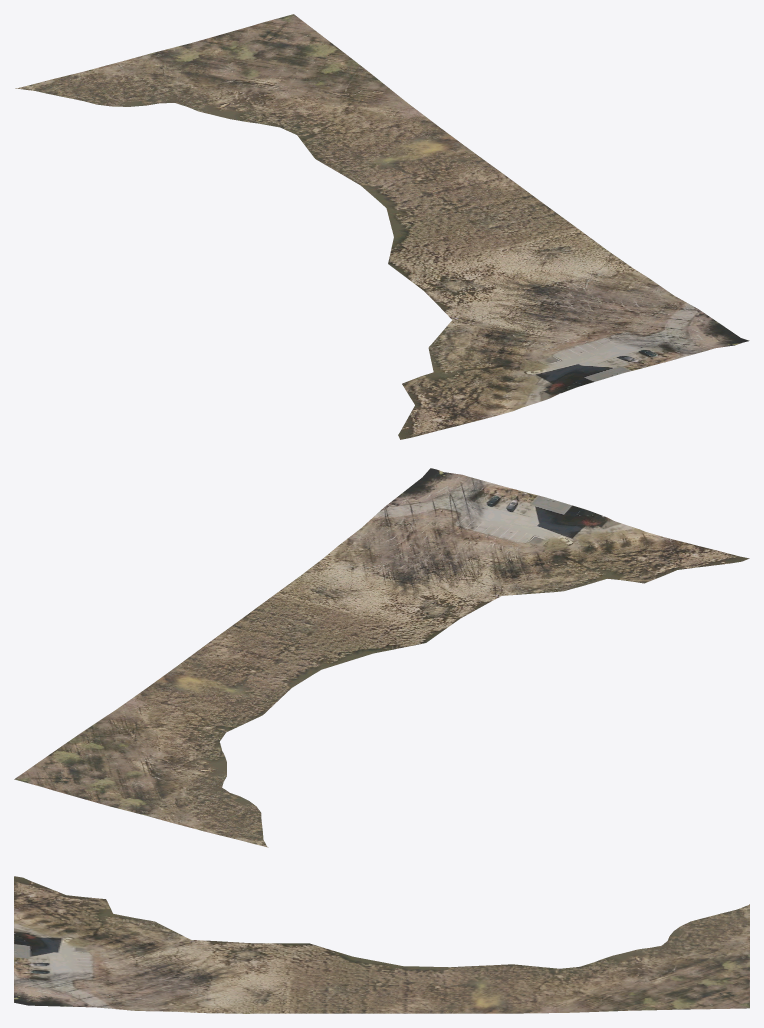
Rendered from CM_Terrain_24490254_6819589.fbx.
The picture shows the model from 3 angles, top to bottom: view 1: azimuth 30°, elevation 25°; view 2: azimuth 150°, elevation 25°; view 3: azimuth 270°, elevation 25°; orthographic projection. The views are drawn at different scales.
Visible parts, largest first — view 1: CM_Terrain_24490254_6819589_LOD0; view 2: CM_Terrain_24490254_6819589_LOD0; view 3: CM_Terrain_24490254_6819589_LOD0.
Part boxes in pixels (bbox=[...]): CM_Terrain_24490254_6819589_LOD0: bbox=[15, 14, 749, 439]; CM_Terrain_24490254_6819589_LOD0: bbox=[14, 468, 749, 847]; CM_Terrain_24490254_6819589_LOD0: bbox=[14, 876, 749, 1013].
Size of what is drawn, in the model's own units: 90.64 by 3.83 by 205.
